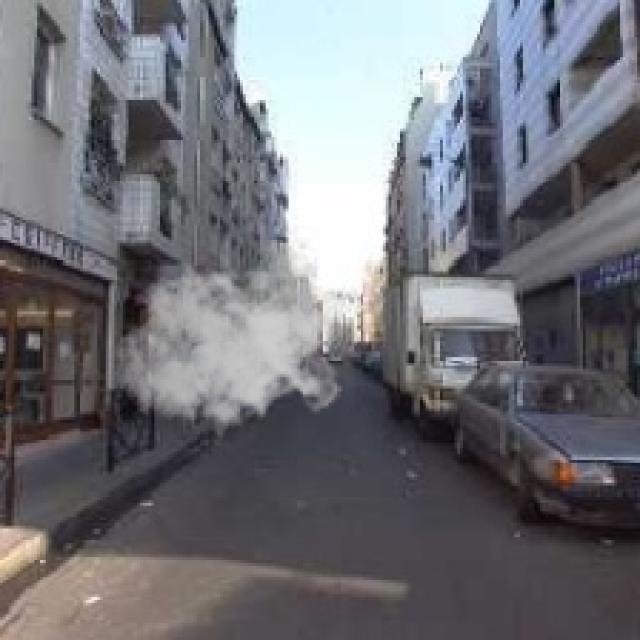Smoke: (114, 241, 346, 448)
